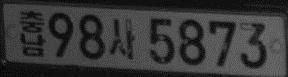3: (239, 22, 267, 69)
5: (148, 16, 174, 65)
7: (208, 20, 236, 66)
8: (177, 18, 206, 66), (78, 13, 106, 60)
9: (47, 11, 74, 58)
사: (108, 17, 136, 58)
충남_V: (18, 9, 45, 57)
